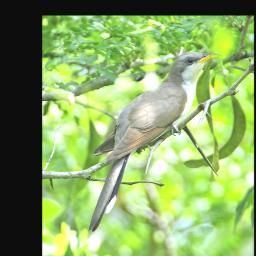Cuckoo: (88, 51, 219, 232)
